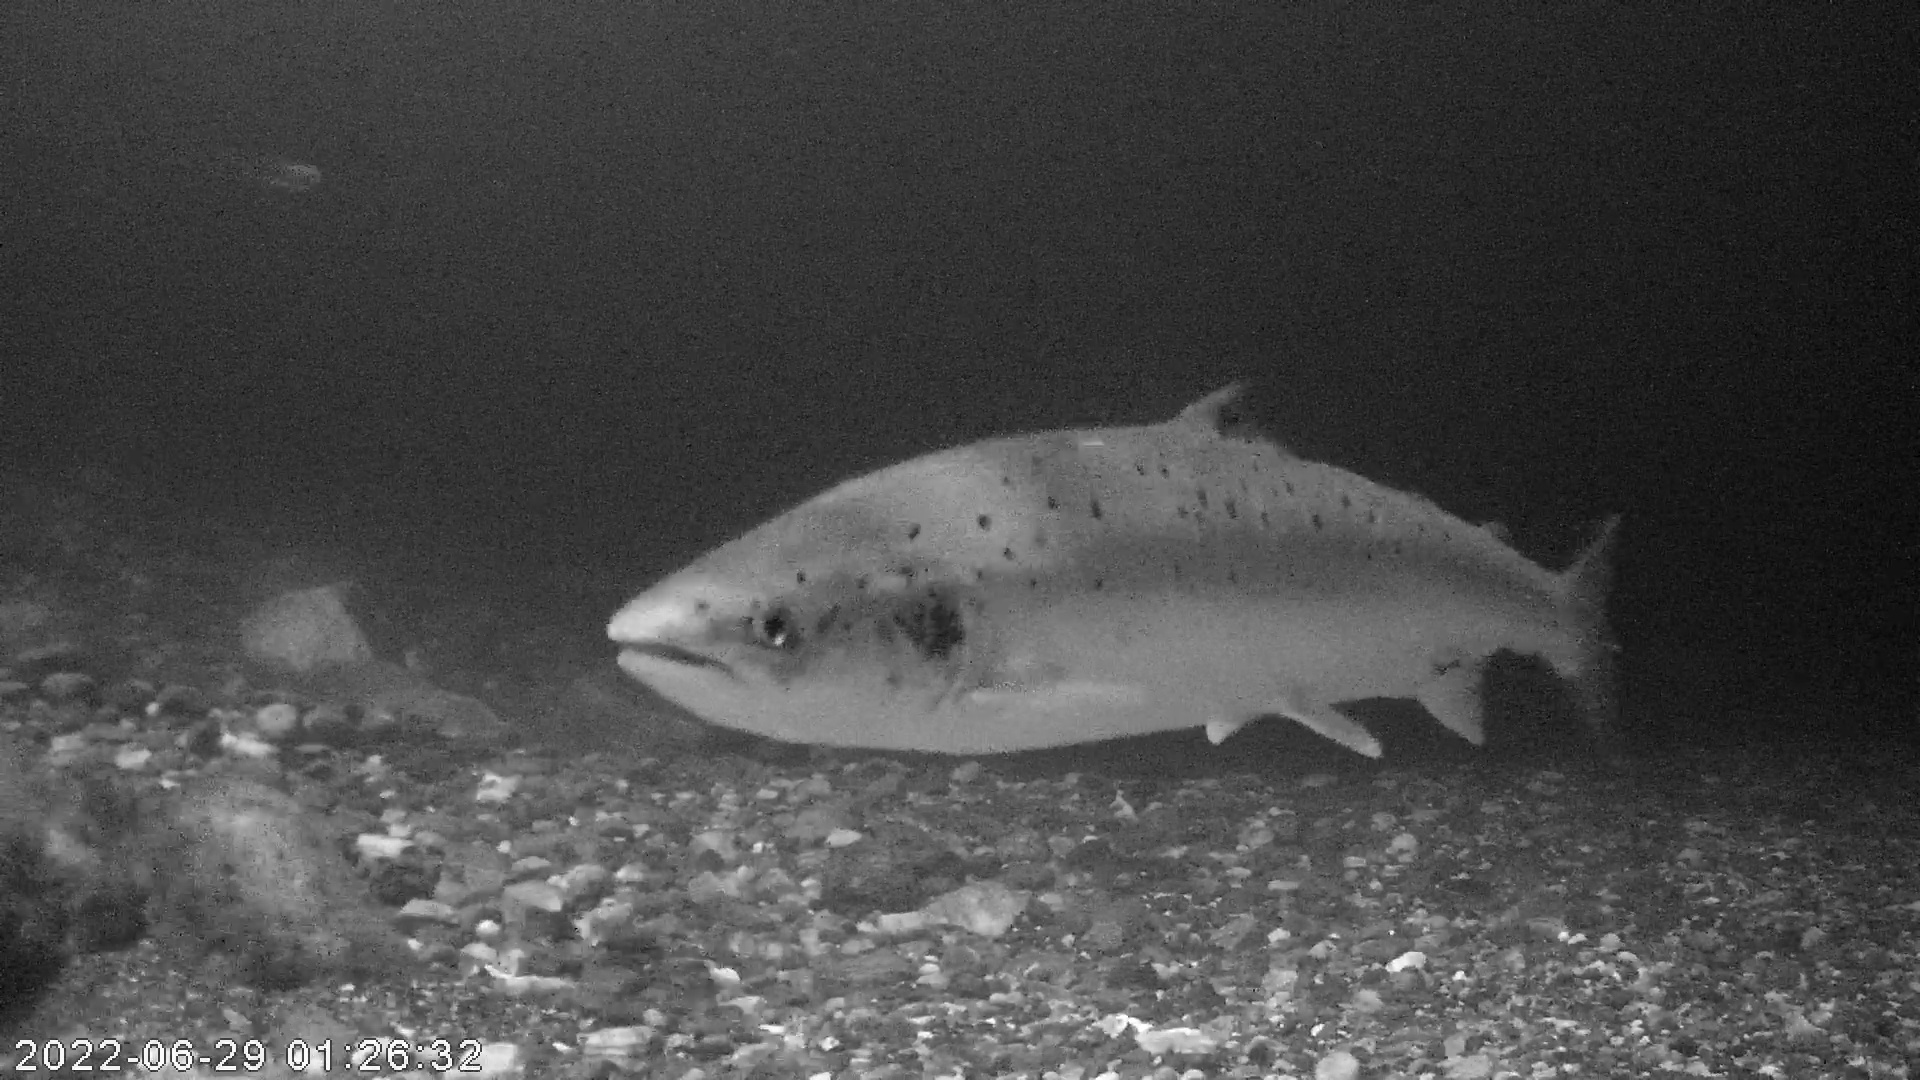salmon: (593, 357, 1635, 769)
